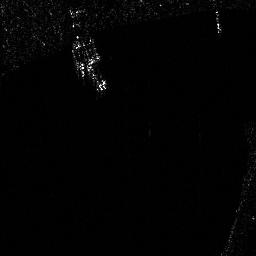ship: (87, 65, 106, 91)
